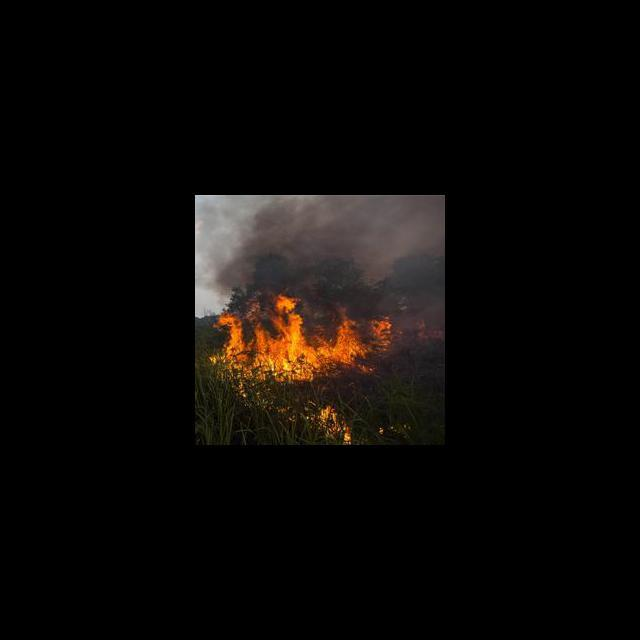Fire: (208, 292, 396, 384), (314, 404, 356, 444)
Smoke: (204, 197, 444, 291)
